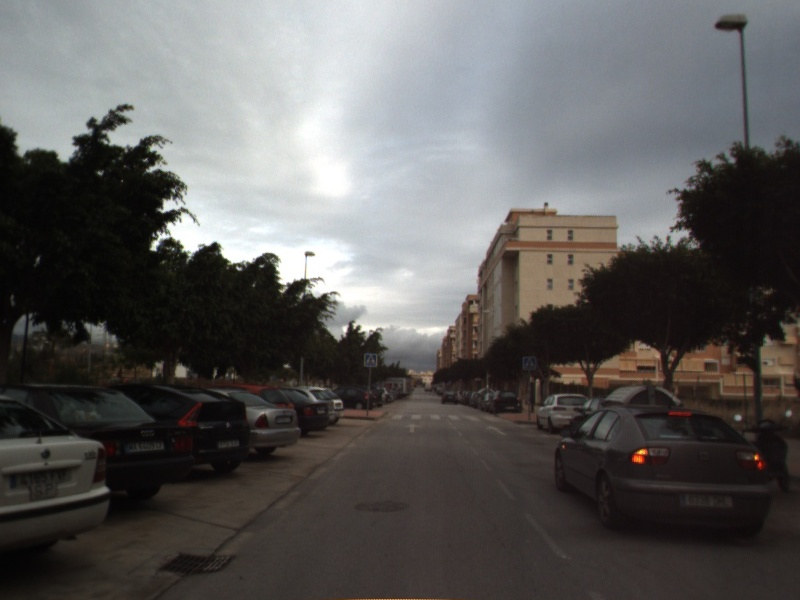STRAIGHT: (484, 423, 508, 437), (402, 421, 424, 434)
